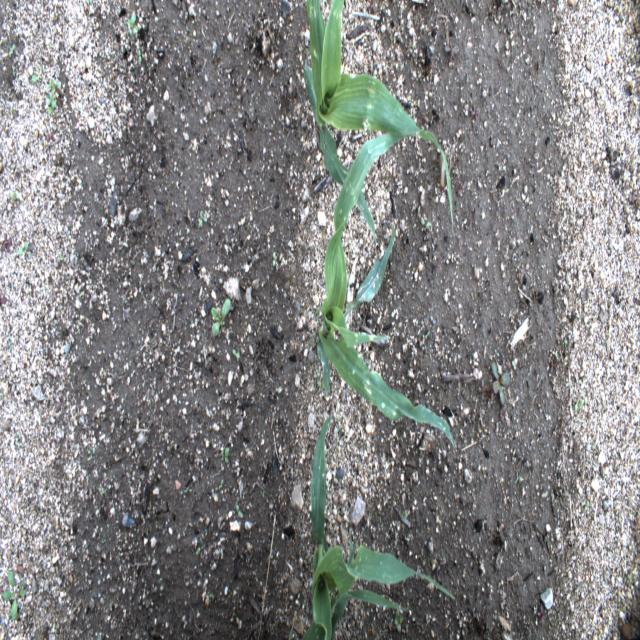crop: (316, 130, 456, 452), (301, 413, 454, 640), (302, 0, 420, 241), (286, 615, 296, 640)
weed: (3, 568, 26, 623), (490, 362, 512, 408), (210, 297, 230, 338), (442, 40, 458, 62), (126, 11, 139, 37), (46, 91, 59, 117), (46, 77, 62, 98), (32, 66, 48, 86), (219, 445, 231, 466), (394, 610, 404, 634), (478, 379, 487, 403), (199, 208, 208, 229), (573, 397, 584, 411), (86, 445, 96, 459), (18, 242, 27, 255), (235, 503, 242, 519), (9, 42, 16, 58), (9, 190, 18, 202), (137, 47, 142, 67), (511, 359, 517, 374), (98, 485, 106, 496), (218, 478, 224, 492), (208, 591, 216, 601), (194, 546, 202, 556), (232, 350, 240, 360), (626, 572, 632, 585), (584, 500, 590, 512), (312, 369, 318, 380), (60, 256, 69, 263), (319, 379, 324, 389), (495, 348, 500, 357), (424, 332, 431, 338)
